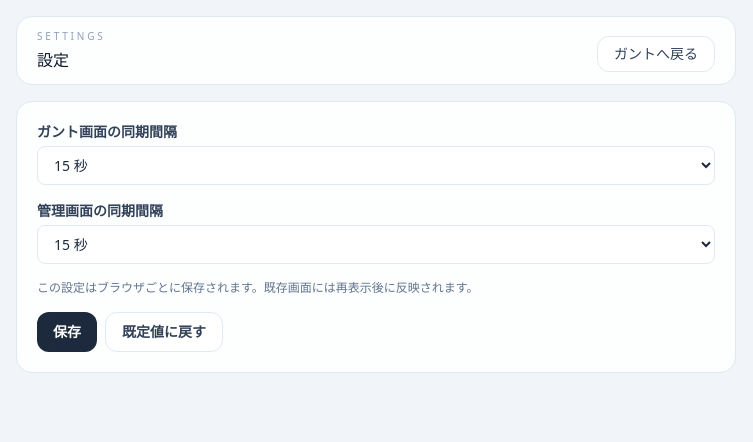
Test case: /settings/+page.svelte › should save polling settings into localStorage
Select "OFF" in the dropdown labelled "ガント画面の同期間隔" at (376, 166), box [37,146,715,185]
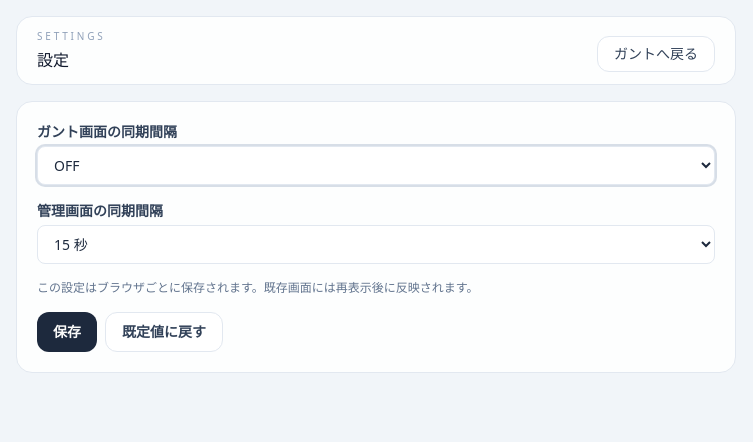
Select "30 秒" in the dropdown labelled "管理画面の同期間隔" at (376, 244), box [37,225,715,264]
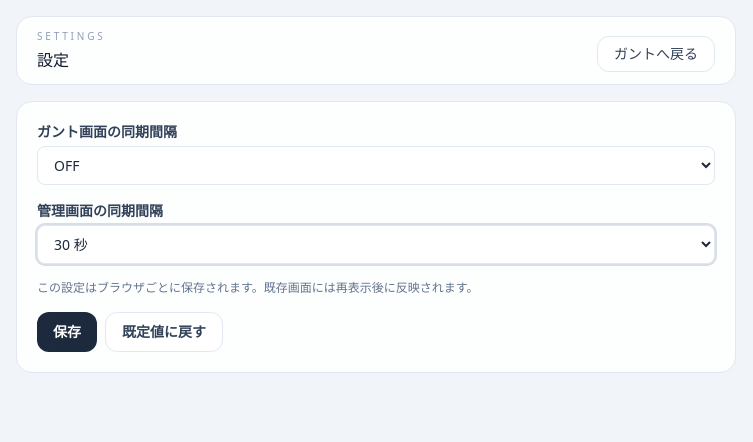
Click the button "保存" at (67, 332), box [37,312,97,352]
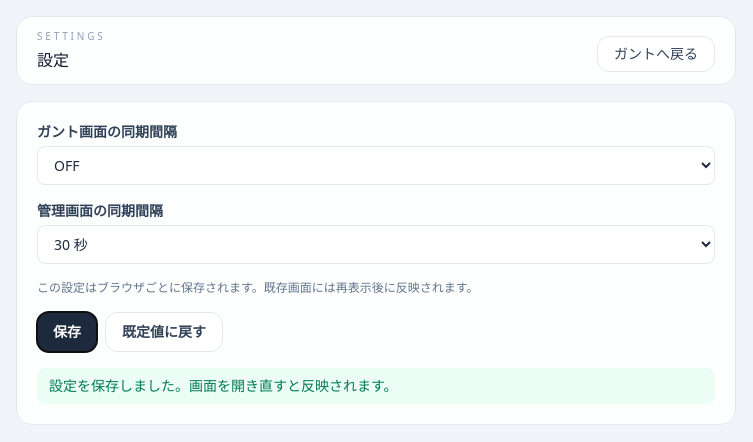
Check: the text "設定を保存しました。画面を開き直すと反映されます。" is shown, box [37,368,715,404]
